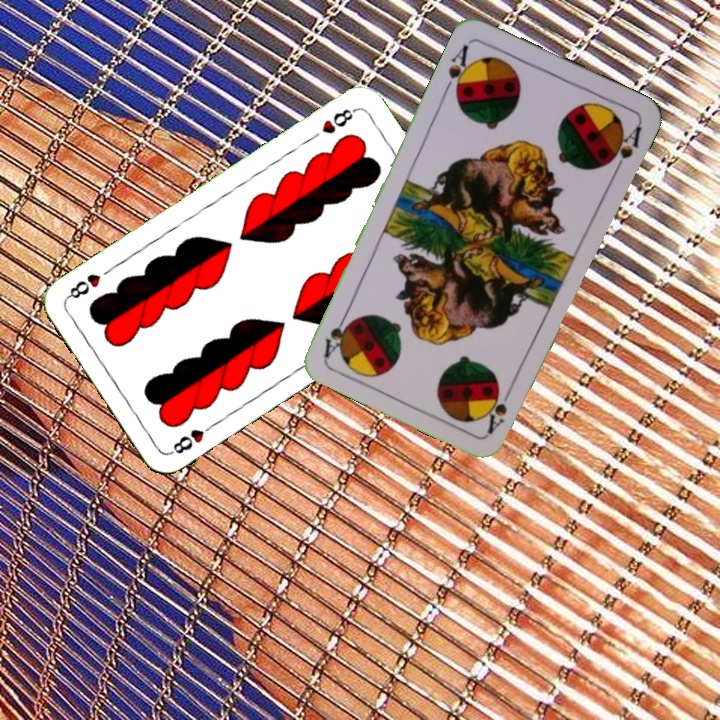H8: (166, 418, 218, 458), (317, 104, 359, 137)
SA: (441, 41, 476, 99), (482, 380, 517, 436)
